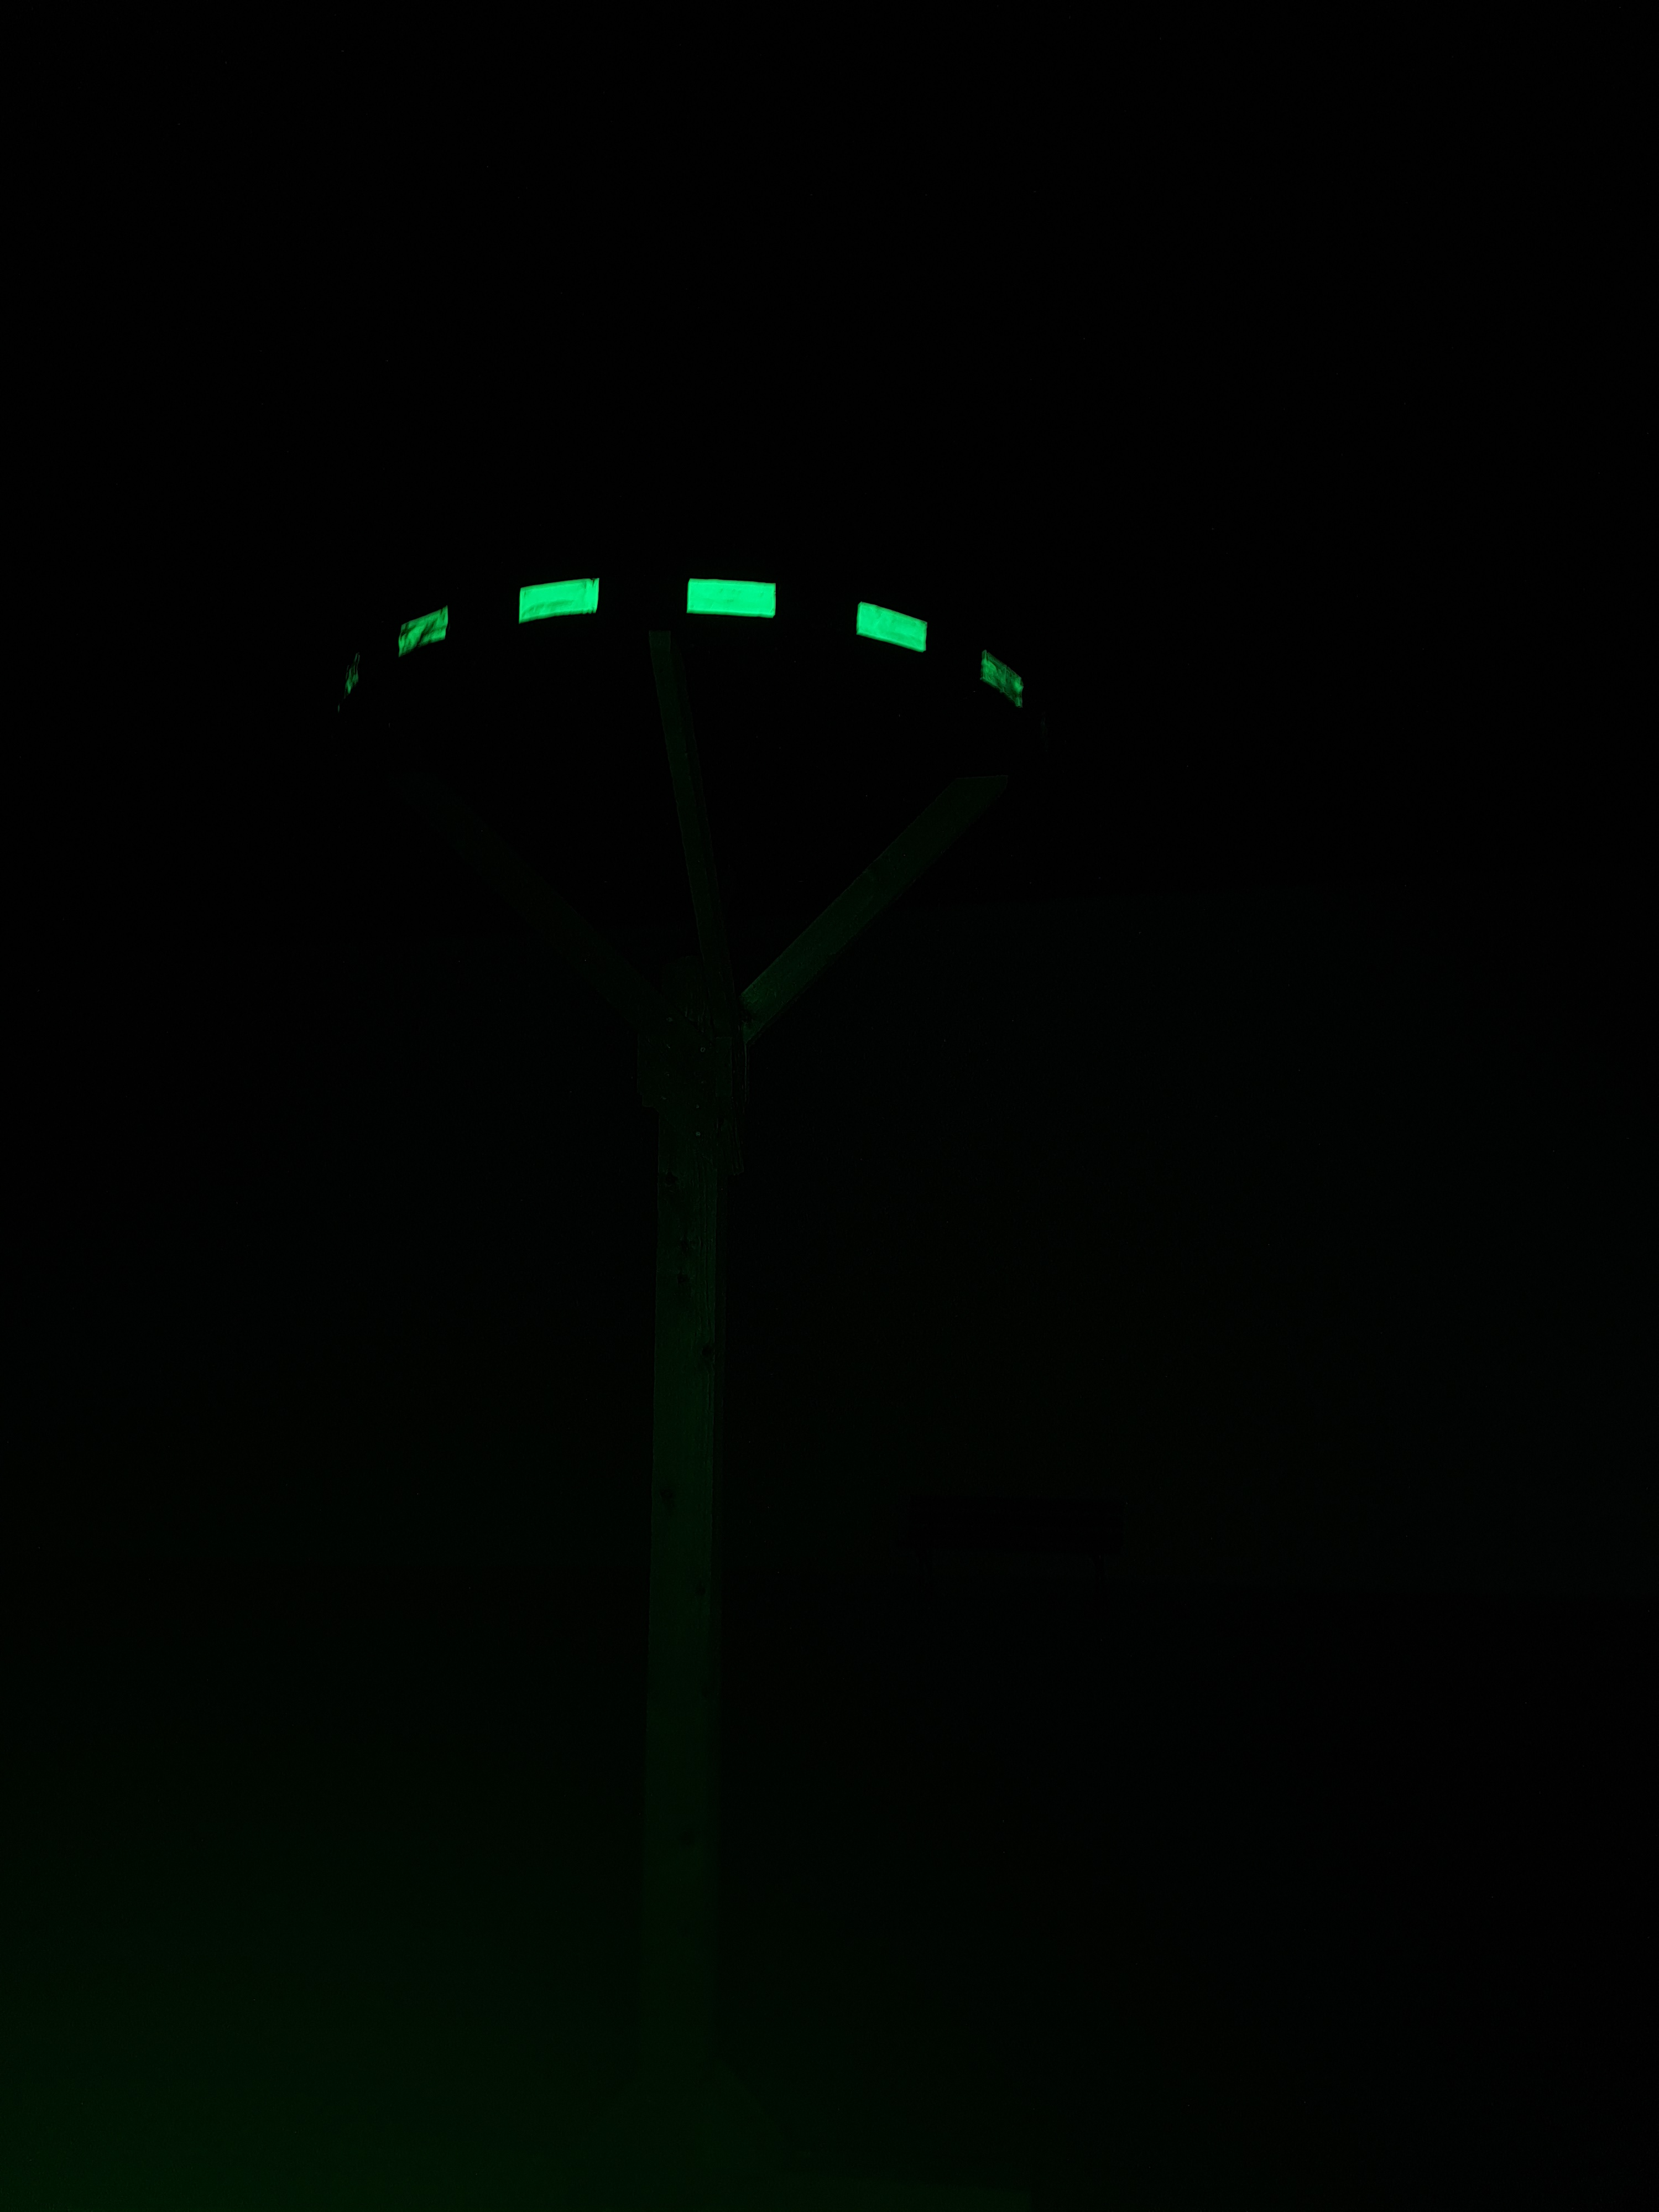hoop: (340, 570, 1030, 714)
